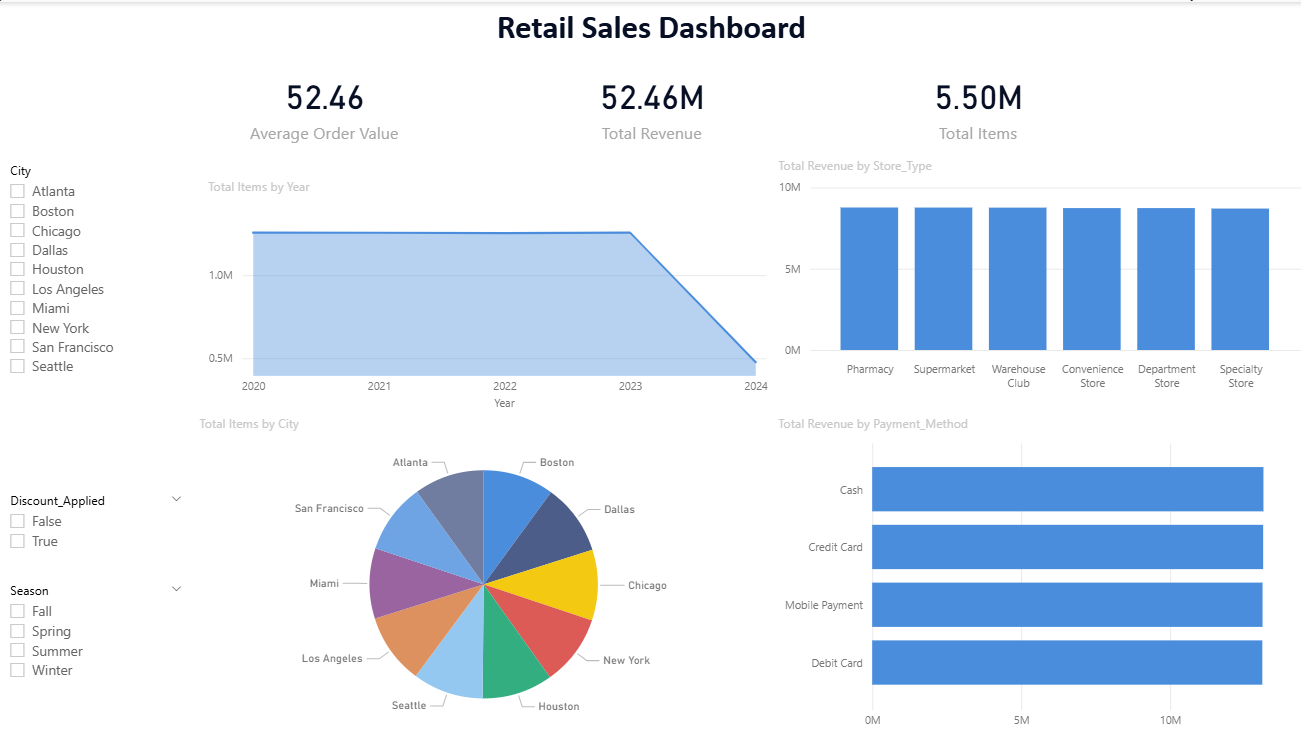

The page's visual inventory and layout, read from the dashboard file:
{"tool":"powerbi","page":{"name":"DASHBOARD","canvas":[1280,720],"ordinal":0},"visuals":[{"type":"textbox","box":[0,0,1280.3,51.4],"z":0},{"type":"card","fields":{"Values":["Retail_Transactions_Dataset.Average Order Value"]},"box":[201.8,51.4,237.2,100.3],"z":1000},{"type":"card","fields":{"Values":["Retail_Transactions_Dataset.Total Revenue"]},"box":[522.1,51.4,237.2,100.3],"z":2000},{"type":"card","fields":{"Values":["Retail_Transactions_Dataset.Total Items"]},"box":[841.3,51.4,237.2,100.3],"z":3000},{"type":"stackedAreaChart","fields":{"Category":["Retail_Transactions_Dataset.Date.Variation.Date Hierarchy.Year","Retail_Transactions_Dataset.Date.Variation.Date Hierarchy.Quarter","Retail_Transactions_Dataset.Date.Variation.Date Hierarchy.Month","Retail_Transactions_Dataset.Date.Variation.Date Hierarchy.Day"],"Y":["Retail_Transactions_Dataset.Total Items"]},"box":[201.8,172.4,557.6,231.1],"z":4000},{"type":"slicer","fields":{"Values":["Retail_Transactions_Dataset.City"]},"box":[0,151.6,201.8,322.8],"z":5000},{"type":"columnChart","fields":{"Y":["Retail_Transactions_Dataset.Total Revenue"],"Category":["Retail_Transactions_Dataset.Store_Type"]},"box":[759.4,151.6,520.9,236],"z":6000},{"type":"pieChart","fields":{"Y":["Retail_Transactions_Dataset.Total Items"],"Category":["Retail_Transactions_Dataset.City"]},"box":[193.2,403.5,566.2,316.7],"z":7000},{"type":"slicer","fields":{"Values":["Retail_Transactions_Dataset.Discount_Applied"]},"box":[0,474.5,193.2,88],"z":8000},{"type":"slicer","fields":{"Values":["Retail_Transactions_Dataset.Season"]},"box":[0,562.5,193.2,157.7],"z":9000},{"type":"barChart","fields":{"Category":["Retail_Transactions_Dataset.Payment_Method"],"Y":["Retail_Transactions_Dataset.Total Revenue"]},"box":[759,404,521,316],"z":10000}]}

Visuals, with their boxes in screenshot pixels (x1, y1, x2, y2), scaled from the page's 1280x720 canvas onto the 1301x737 screenshot:
textbox: (0, 0, 1300, 53)
card - Retail_Transactions_Dataset.Average Order Value: (205, 53, 446, 155)
card - Retail_Transactions_Dataset.Total Revenue: (531, 53, 772, 155)
card - Retail_Transactions_Dataset.Total Items: (855, 53, 1096, 155)
stackedAreaChart - Retail_Transactions_Dataset.Date.Variation.Date Hierarchy.Year x Retail_Transactions_Dataset.Date.Variation.Date Hierarchy.Quarter: (205, 176, 772, 413)
slicer - Retail_Transactions_Dataset.City: (0, 155, 205, 486)
columnChart - Retail_Transactions_Dataset.Total Revenue x Retail_Transactions_Dataset.Store_Type: (772, 155, 1300, 397)
pieChart - Retail_Transactions_Dataset.Total Items x Retail_Transactions_Dataset.City: (196, 413, 772, 736)
slicer - Retail_Transactions_Dataset.Discount_Applied: (0, 486, 196, 576)
slicer - Retail_Transactions_Dataset.Season: (0, 576, 196, 736)
barChart - Retail_Transactions_Dataset.Payment_Method x Retail_Transactions_Dataset.Total Revenue: (771, 414, 1300, 736)
